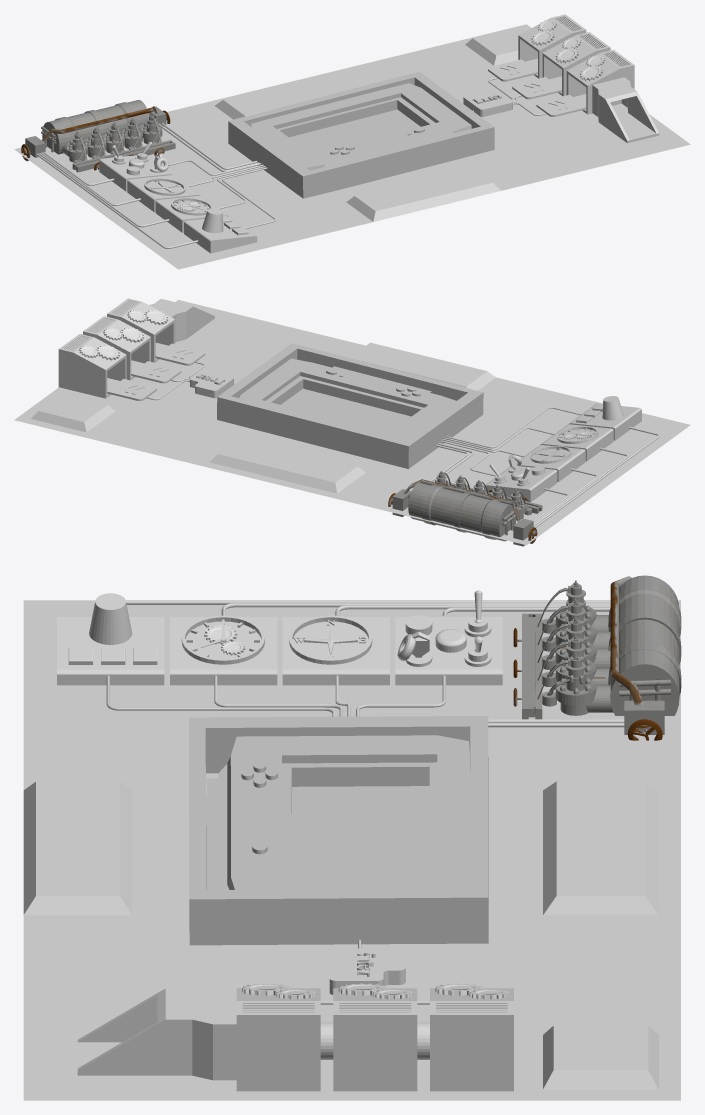
The model's file is Internal Objects.fbx.
3 renders of one model, top to bottom at view 1: azimuth 30°, elevation 25°; view 2: azimuth 150°, elevation 25°; view 3: azimuth 270°, elevation 25°, orthographic. The views are drawn at different scales.
Visible parts, largest first — view 1: Floor, Computer, Engine, Output, Engine-Pipes, Process Plant.002, Process Plant.001, Process Plant, Warning System, Minimap, Turret, Time (+6 smaller); view 2: Floor, Computer, Engine, Process Plant.001, Engine-Pipes, Process Plant, Process Plant.002, Output, Turret, Minimap, Time, Warning System (+6 smaller); view 3: Floor, Computer, Engine, Output, Process Plant.002, Process Plant, Process Plant.001, Minimap, Time, Engine-Pipes, Warning System, Turret (+7 smaller).
Boxes of the visible parts, <box> form: Floor: <box>14,24,690,269</box>; Computer: <box>228,71,494,198</box>; Engine: <box>21,100,175,172</box>; Output: <box>592,77,659,143</box>; Engine-Pipes: <box>36,123,258,248</box>; Process Plant.002: <box>566,49,634,114</box>; Process Plant.001: <box>518,14,586,78</box>; Process Plant: <box>542,32,610,95</box>; Warning System: <box>184,216,257,253</box>; Minimap: <box>127,175,200,212</box>; Turret: <box>99,155,172,191</box>; Time: <box>155,195,228,232</box>; Floor: <box>14,300,690,545</box>; Computer: <box>217,343,483,468</box>; Engine: <box>388,470,542,546</box>; Process Plant.001: <box>58,334,126,398</box>; Engine-Pipes: <box>430,426,659,527</box>; Process Plant: <box>83,316,150,380</box>; Process Plant.002: <box>107,298,174,362</box>; Output: <box>149,299,214,342</box>; Turret: <box>484,466,557,502</box>; Minimap: <box>517,445,585,481</box>; Time: <box>540,424,613,461</box>; Warning System: <box>569,403,641,440</box>; Floor: <box>23,600,680,1100</box>; Computer: <box>189,716,488,945</box>; Engine: <box>513,575,681,740</box>; Output: <box>77,988,236,1080</box>; Process Plant.002: <box>236,988,320,1091</box>; Process Plant: <box>333,988,417,1091</box>; Process Plant.001: <box>430,988,513,1091</box>; Minimap: <box>282,615,389,685</box>; Time: <box>170,615,277,685</box>; Engine-Pipes: <box>126,600,624,727</box>; Warning System: <box>57,615,164,685</box>; Turret: <box>395,615,502,685</box>.
Bounding box in the file's own units: 2205 × 216 × 1225.
